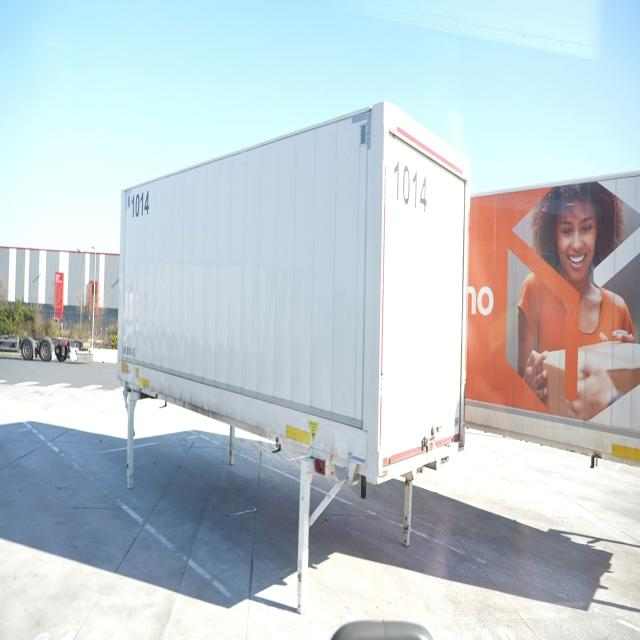Code: (389, 150, 434, 220), (127, 184, 155, 222)
